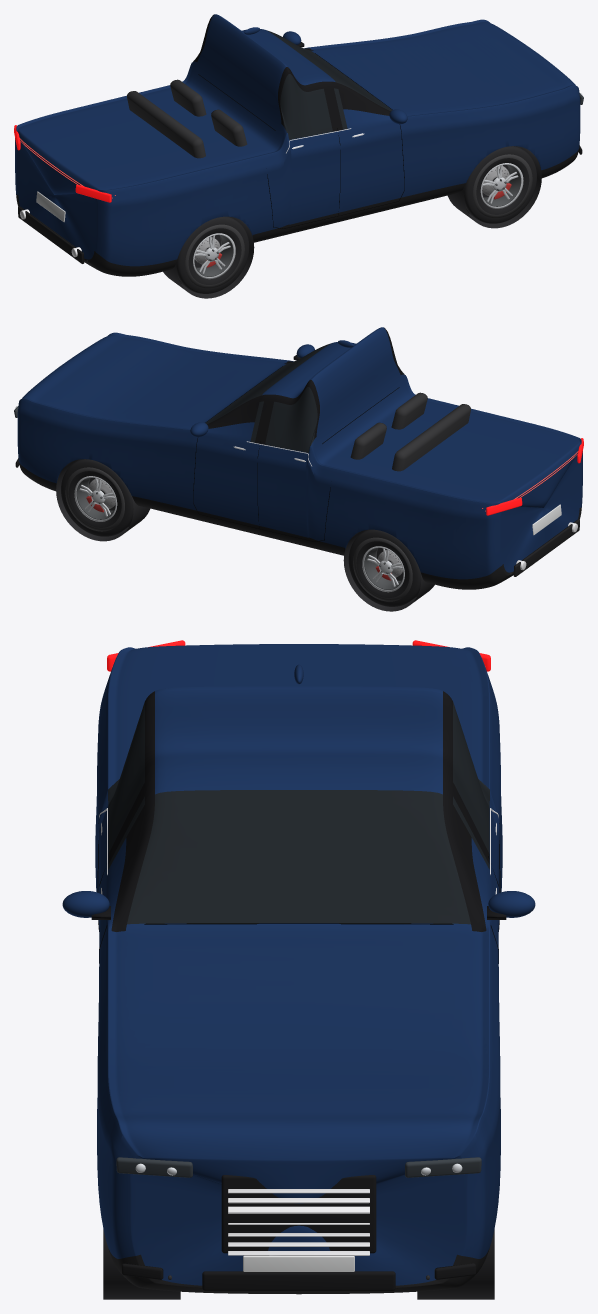
Rendered from pickup.glb.
3 views of the same model, one above another, from view 1: azimuth 30°, elevation 25°; view 2: azimuth 150°, elevation 25°; view 3: azimuth 270°, elevation 25° (orthographic). The views are drawn at different scales.
Visible parts, largest first — view 1: karosserie, bt:rad_hr, bt:rad_vr, bt:sitze, radhausschale.001, radhausschale.003, diffusor, bt:bremse_vr; view 2: karosserie, bt:rad_hl, bt:rad_vl, bt:sitze, radhausschale, radhausschale.002, diffusor, bt:bremse_vl; view 3: karosserie, grill, lufteinlass, kennzeichen_vorn, radhausschale, radhausschale.001, scheinwerfer_1, scheinwerfer_-1, grill_lamelle_5, spiegel_1, spiegel_-1, grill_lamelle_6.
Boxes of the visible parts, bbox=[...] form: karosserie: bbox=[15, 14, 580, 276]; bt:rad_hr: bbox=[176, 216, 249, 293]; bt:rad_vr: bbox=[464, 146, 536, 223]; bt:sitze: bbox=[127, 79, 247, 158]; radhausschale.001: bbox=[447, 146, 541, 228]; radhausschale.003: bbox=[163, 217, 254, 298]; diffusor: bbox=[18, 206, 84, 263]; bt:bremse_vr: bbox=[482, 166, 511, 199]; karosserie: bbox=[17, 327, 582, 589]; bt:rad_hl: bbox=[348, 529, 421, 606]; bt:rad_vl: bbox=[61, 459, 133, 536]; bt:sitze: bbox=[350, 392, 470, 471]; radhausschale: bbox=[56, 459, 150, 541]; radhausschale.002: bbox=[343, 530, 434, 611]; diffusor: bbox=[513, 519, 579, 576]; bt:bremse_vl: bbox=[86, 479, 115, 512]; karosserie: bbox=[95, 644, 502, 1294]; grill: bbox=[221, 1175, 376, 1253]; lufteinlass: bbox=[202, 1271, 395, 1290]; kennzeichen_vorn: bbox=[243, 1255, 354, 1271]; radhausschale: bbox=[417, 1229, 494, 1299]; radhausschale.001: bbox=[103, 1229, 180, 1299]; scheinwerfer_1: bbox=[405, 1157, 481, 1177]; scheinwerfer_-1: bbox=[116, 1157, 192, 1177]; grill_lamelle_5: bbox=[228, 1206, 369, 1213]; spiegel_1: bbox=[488, 891, 535, 917]; spiegel_-1: bbox=[62, 891, 109, 917]; grill_lamelle_6: bbox=[228, 1198, 369, 1203].
Bounding box in the file's own units: 5.39 × 2.19 × 2.2.
